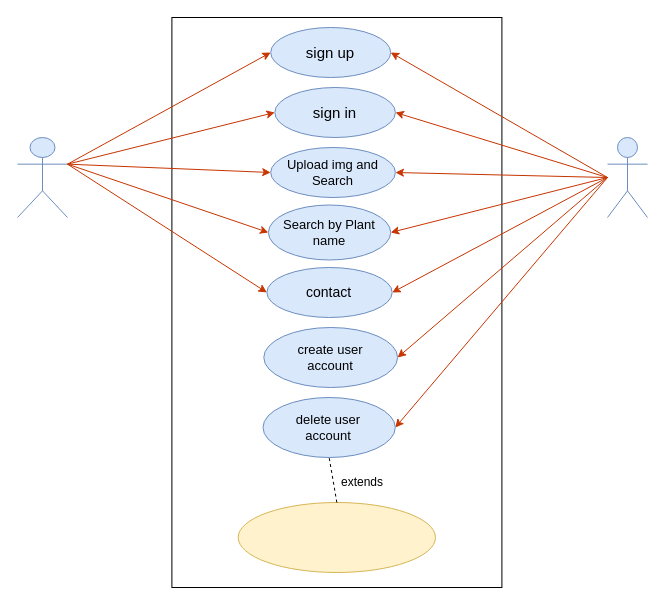
The diagram is 665 pixels wide and 605 high, and some of its shapes have lost their labels. Here are the shapes that lost their labels. From the top down, the centre of each, then its label:
pixel 42 177: User
pixel 627 177: Admin
pixel 336 537: The user has not opened the account for more than two years
